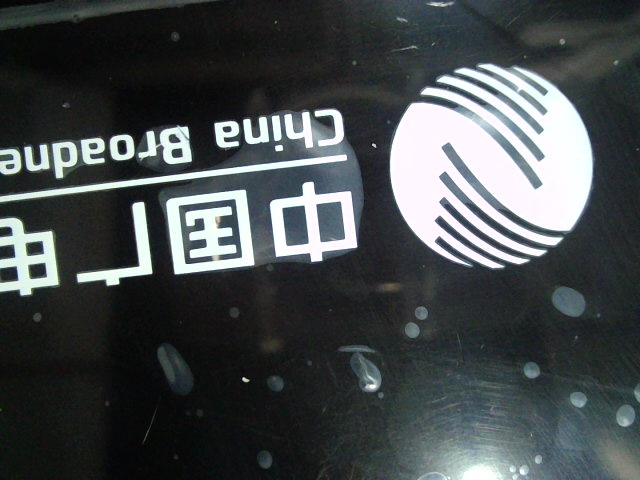AW_ChinaBroadNet: (2, 49, 605, 303)
